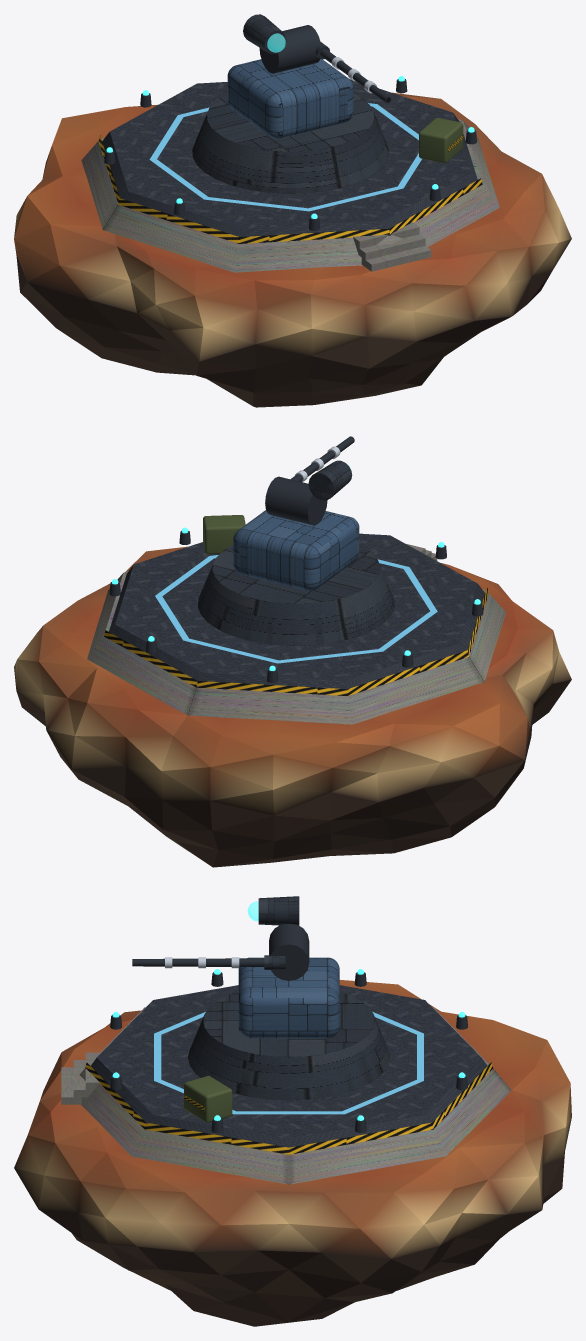
Rendered from aadefense-L1.glb.
The picture shows the model from 3 angles, top to bottom: view 1: azimuth 30°, elevation 25°; view 2: azimuth 150°, elevation 25°; view 3: azimuth 270°, elevation 25°; orthographic projection. The views are drawn at different scales.
Parts seen in each view (by area): view 1: object 1, object 4, object 25, object 2, anim:yaw, object 3, anim:pitch, object 5, object 26, anim:rc, object 22, object 23 (+1 smaller); view 2: object 1, object 4, object 2, object 25, anim:yaw, anim:pitch, object 3, object 5, object 26, anim:rc; view 3: object 1, object 4, object 2, object 25, anim:yaw, object 3, anim:pitch, object 5, object 26, anim:rc, object 22.
Part boxes in pixels (x1,y1,x2,y2): object 1: (14, 92, 571, 407); object 4: (102, 79, 477, 236); object 25: (192, 93, 388, 193); object 2: (81, 119, 499, 272); anim:yaw: (227, 59, 353, 138); object 3: (98, 135, 482, 243); anim:pitch: (243, 14, 320, 73); object 5: (149, 103, 421, 211); object 26: (419, 117, 463, 163); anim:rc: (315, 41, 391, 103); object 22: (361, 246, 431, 271); object 23: (356, 234, 425, 260); object 1: (14, 546, 571, 867); object 4: (109, 533, 484, 689); object 2: (87, 571, 505, 724); object 25: (197, 545, 394, 645); anim:yaw: (233, 510, 359, 590); anim:pitch: (265, 460, 352, 525); object 3: (104, 587, 488, 695); object 5: (155, 555, 437, 663); object 26: (203, 515, 245, 554); anim:rc: (291, 436, 354, 482); object 1: (14, 980, 571, 1326); object 4: (91, 985, 487, 1147); object 2: (79, 1007, 510, 1184); object 25: (188, 991, 390, 1100); anim:yaw: (238, 957, 339, 1038); object 3: (85, 1062, 493, 1154); anim:pitch: (247, 896, 309, 980); object 5: (154, 1011, 423, 1114); object 26: (184, 1075, 232, 1122); anim:rc: (132, 955, 285, 969); object 22: (61, 1067, 81, 1104).
Bounding box in the file's own units: 5.6 × 3.76 × 5.51.
Materials: 14 (6 with a texture image).
